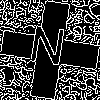N: (25, 25, 68, 76)
